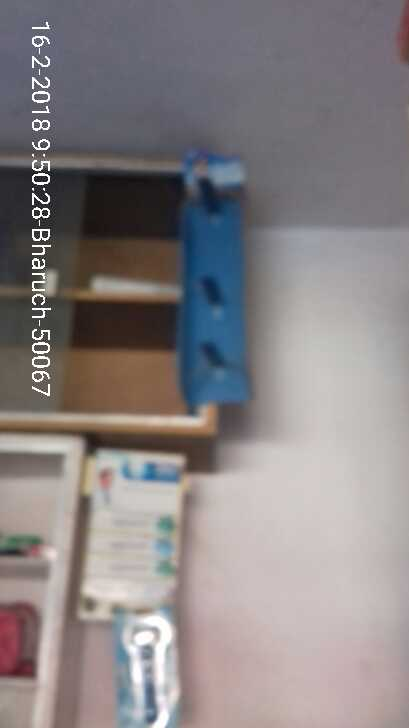reject: (187, 238, 231, 300)
